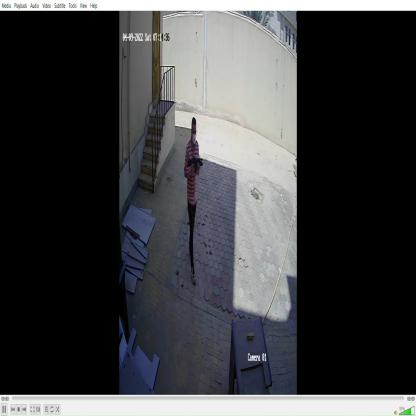handgun: (184, 150, 206, 175)
